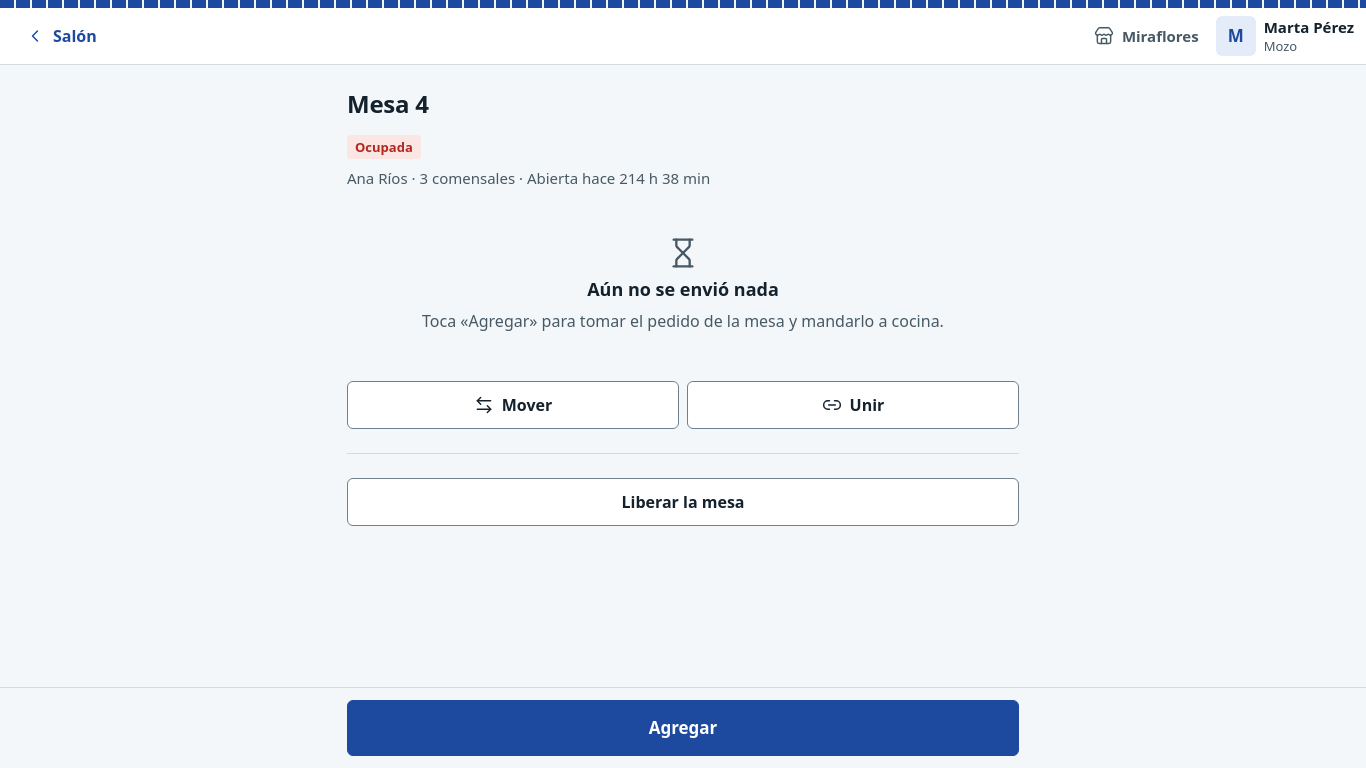
Scenario: La cuenta de la mesa (criterio 90) › sin ítems dice qué hacer, y «Agregar» lleva al comandero
This screenshot has width=1366, height=768.
(page scrolled)
Expected: the text "Aún no se envió nada" is shown, [587,277,779,301]
Click the link "Agregar". click: (683, 728)
box: [347,700,1019,756]
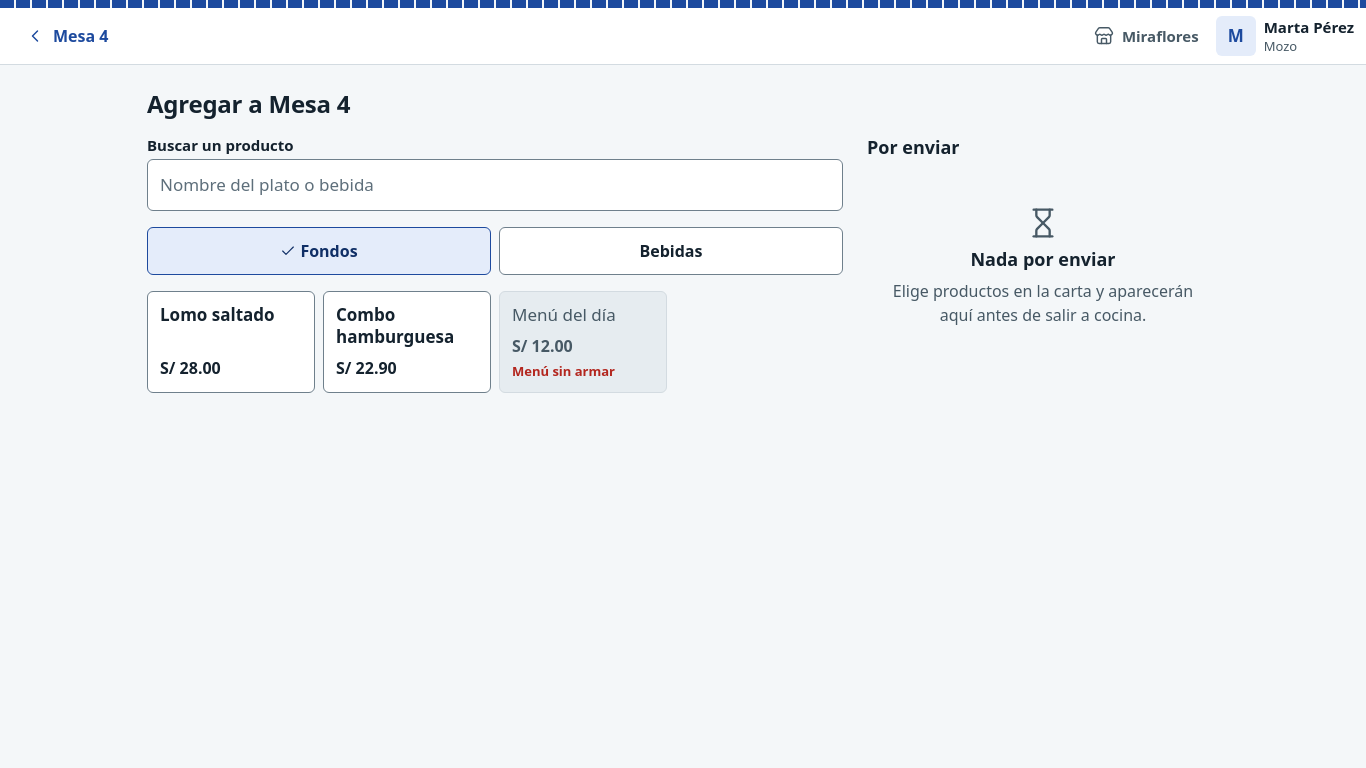
Expected: the heading "Agregar a Mesa 4" is shown, [147,87,350,120]
